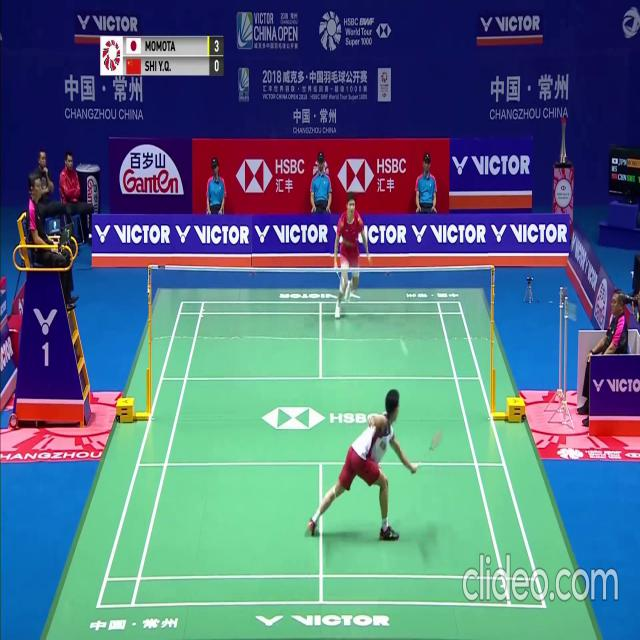Shuttlecock: (399, 336, 403, 343)
